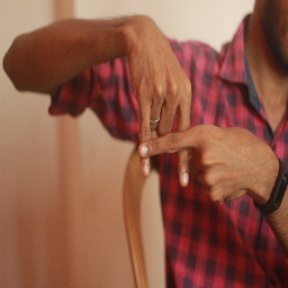H: (124, 72, 220, 210)
